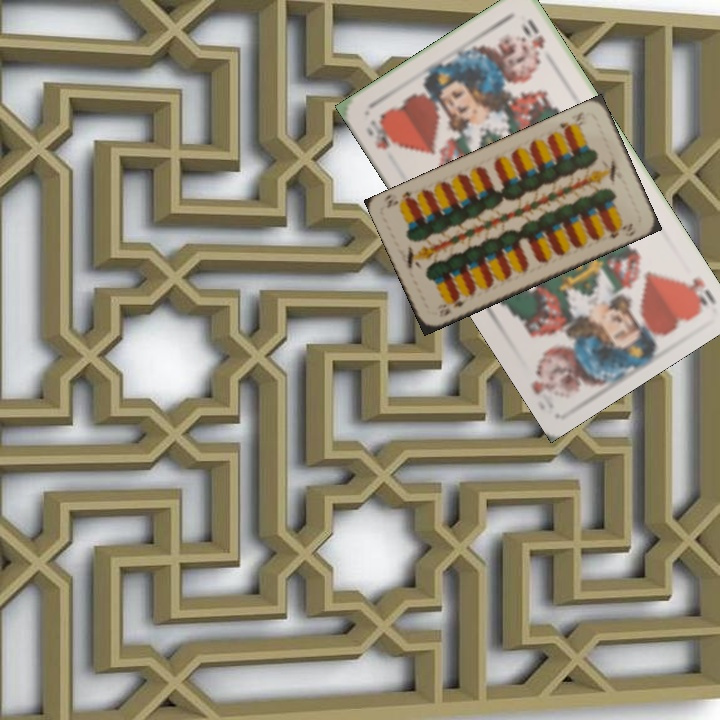E10: (555, 107, 586, 135), (440, 291, 469, 318)
HO: (675, 274, 719, 309), (362, 111, 399, 152)
